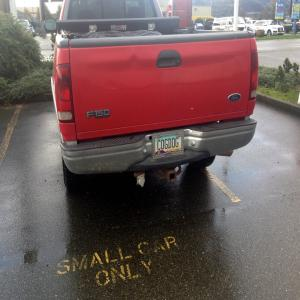Vehicle-registration-plate: (156, 136, 182, 156)
